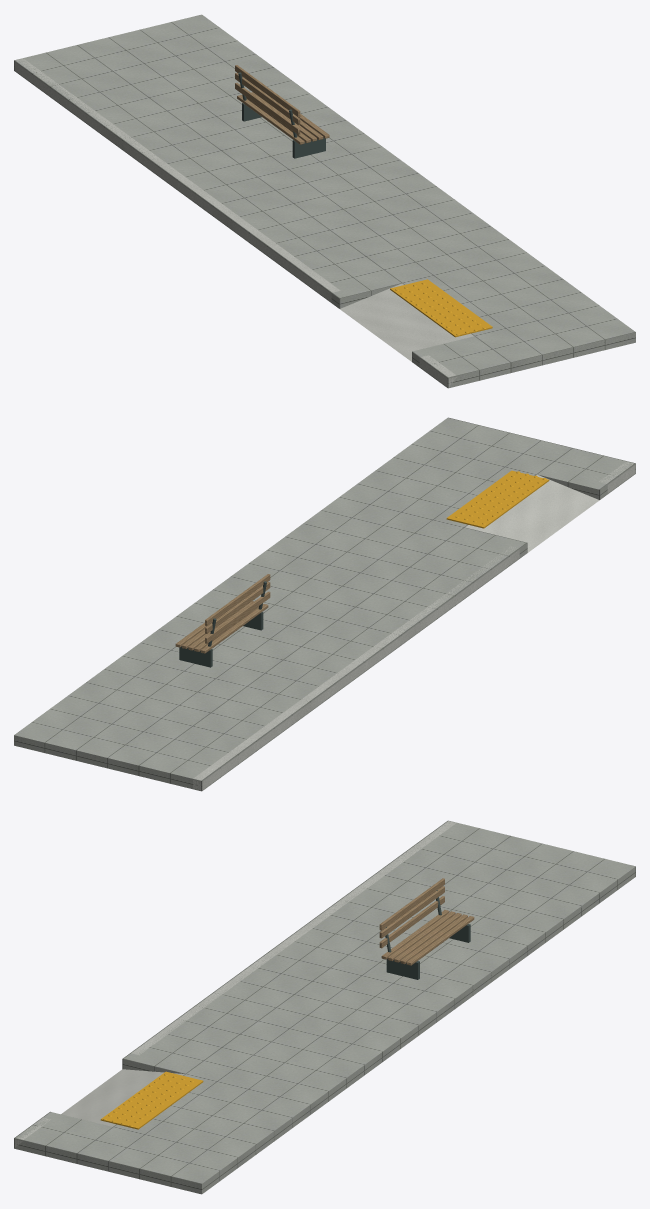
The model's file is sidewalk-segment.glb.
3 renders of one model, top to bottom at view 1: azimuth 30°, elevation 25°; view 2: azimuth 150°, elevation 25°; view 3: azimuth 330°, elevation 25°, orthographic.
Parts seen in each view (by area): view 1: sidewalk-segment_concrete-pavers, sidewalk-segment_light-precast-concrete, sidewalk-segment_wood-deck, sidewalk-segment_safety-yellow, sidewalk-segment_powder-coated-frame; view 2: sidewalk-segment_concrete-pavers, sidewalk-segment_light-precast-concrete, sidewalk-segment_wood-deck, sidewalk-segment_safety-yellow, sidewalk-segment_powder-coated-frame; view 3: sidewalk-segment_concrete-pavers, sidewalk-segment_light-precast-concrete, sidewalk-segment_wood-deck, sidewalk-segment_safety-yellow, sidewalk-segment_powder-coated-frame.
Boxes of the visible parts, left/top/right/bottom form: sidewalk-segment_concrete-pavers: left=14, top=14, right=635, bottom=388; sidewalk-segment_light-precast-concrete: left=14, top=59, right=473, bottom=386; sidewalk-segment_wood-deck: left=235, top=65, right=329, bottom=144; sidewalk-segment_safety-yellow: left=390, top=279, right=492, bottom=337; sidewalk-segment_powder-coated-frame: left=238, top=72, right=325, bottom=158; sidewalk-segment_concrete-pavers: left=14, top=417, right=635, bottom=791; sidewalk-segment_light-precast-concrete: left=193, top=461, right=635, bottom=790; sidewalk-segment_wood-deck: left=175, top=574, right=270, bottom=653; sidewalk-segment_safety-yellow: left=446, top=470, right=549, bottom=528; sidewalk-segment_powder-coated-frame: left=179, top=581, right=266, bottom=667; sidewalk-segment_concrete-pavers: left=14, top=820, right=635, bottom=1194; sidewalk-segment_light-precast-concrete: left=15, top=821, right=455, bottom=1147; sidewalk-segment_wood-deck: left=379, top=878, right=474, bottom=965; sidewalk-segment_safety-yellow: left=100, top=1071, right=203, bottom=1129; sidewalk-segment_powder-coated-frame: left=385, top=890, right=470, bottom=979.
Size of the model in its own units: 3 by 0.945 by 12.
Materials: 5 (3 with a texture image).
